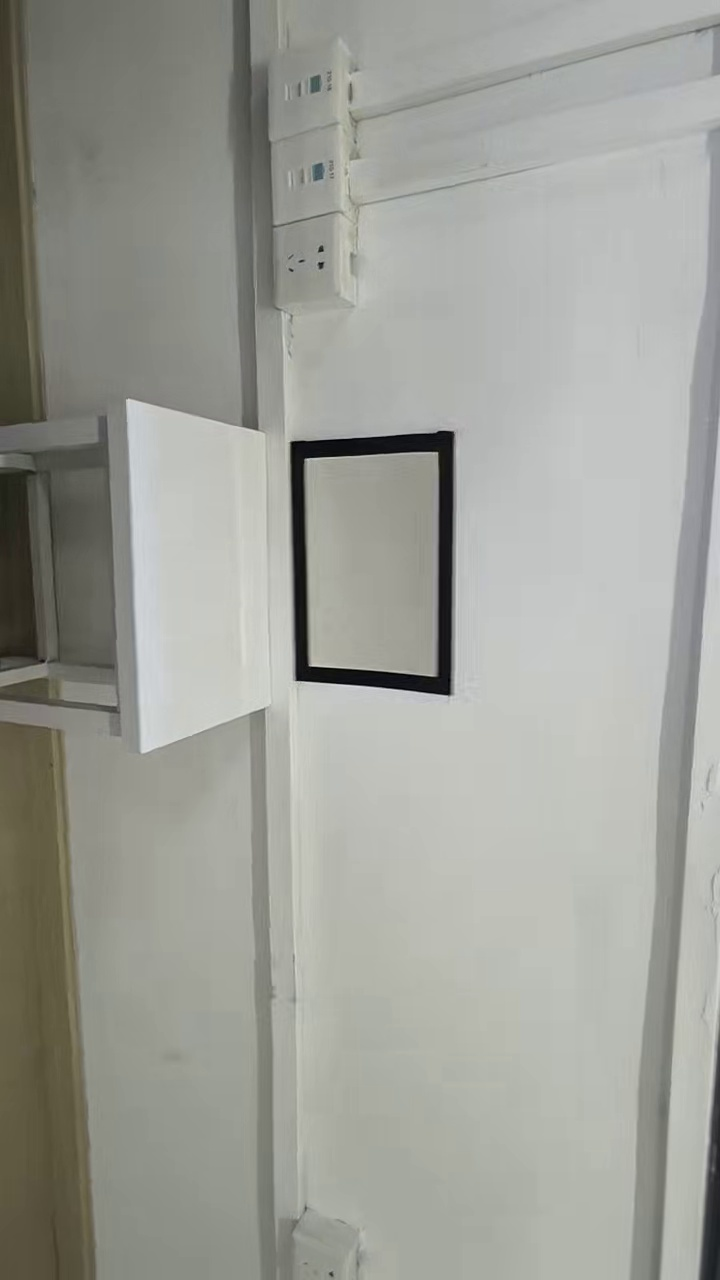board: (292, 427, 451, 700)
